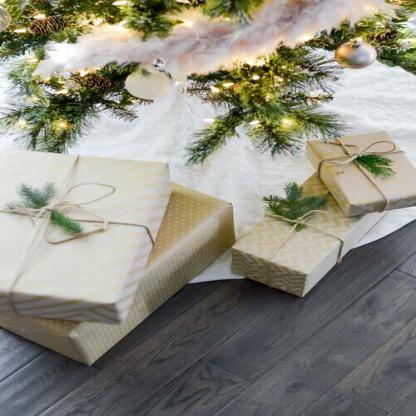present: (19, 173, 250, 359), (2, 147, 164, 319), (265, 164, 384, 308), (301, 144, 415, 232)
